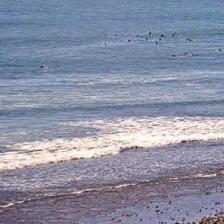surfer: (179, 52, 187, 56), (149, 32, 156, 36), (186, 38, 192, 42), (136, 35, 142, 38), (160, 33, 164, 37), (116, 34, 124, 36), (39, 65, 44, 68), (172, 32, 177, 35), (170, 55, 177, 57), (156, 42, 162, 44), (218, 48, 222, 51), (127, 39, 130, 42), (104, 34, 107, 37), (104, 44, 107, 46), (159, 38, 162, 40), (192, 53, 194, 56), (146, 39, 148, 41)
